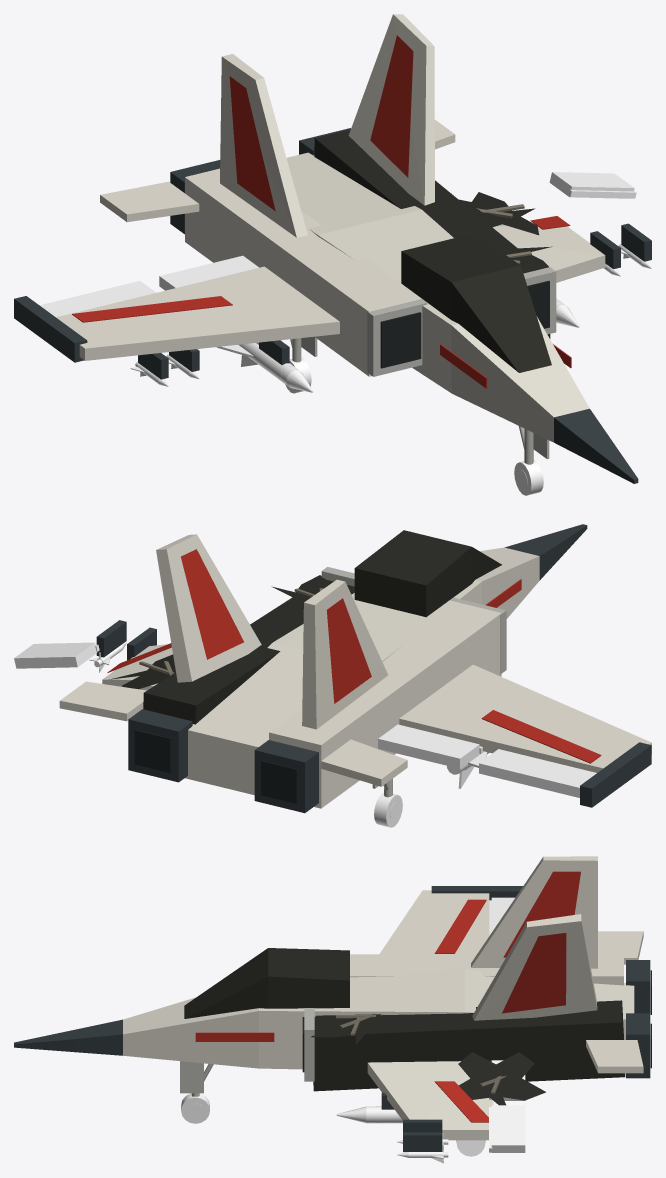
The picture shows the model from 3 angles, top to bottom: view 1: azimuth 30°, elevation 25°; view 2: azimuth 150°, elevation 25°; view 3: azimuth 270°, elevation 25°; orthographic projection. The views are drawn at different scales.
Parts seen in each view (by area): view 1: jet-a-damaged-fleet-armor, jet-a-damaged-fleet-damage-charred, jet-a-damaged-fleet-red, jet-a-damaged-fleet-machine, jet-a-damaged-fleet-rubber, jet-a-damaged-fleet-edge, elevator-left-fleet-armor, aileron-right-painted, aileron-left-painted, flap-left-painted, store-left-large-painted, gear-wheel-nose-0-0-painted (+1 smaller); view 2: jet-a-damaged-fleet-armor, jet-a-damaged-fleet-damage-charred, jet-a-damaged-fleet-machine, jet-a-damaged-fleet-red, aileron-left-painted, flap-left-painted, jet-a-damaged-fleet-rubber, elevator-left-fleet-armor, elevator-right-fleet-armor, aileron-right-painted, jet-a-damaged-fleet-edge, gear-wheel-left-0-0-painted (+1 smaller); view 3: jet-a-damaged-fleet-armor, jet-a-damaged-fleet-damage-charred, jet-a-damaged-fleet-red, jet-a-damaged-fleet-machine, aileron-right-painted, elevator-right-fleet-armor, elevator-left-fleet-armor, landing-gear-nose-fleet-edge, store-right-large-painted, jet-a-damaged-fleet-edge, gear-wheel-nose-0-0-painted, aileron-left-painted (+1 smaller).
Part boxes in pixels (left/top/right/bottom): jet-a-damaged-fleet-armor: left=56, top=14, right=606, bottom=442; jet-a-damaged-fleet-damage-charred: left=314, top=129, right=552, bottom=372; jet-a-damaged-fleet-red: left=72, top=35, right=571, bottom=388; jet-a-damaged-fleet-machine: left=14, top=128, right=651, bottom=483; jet-a-damaged-fleet-rubber: left=380, top=280, right=549, bottom=368; jet-a-damaged-fleet-edge: left=367, top=267, right=556, bottom=376; elevator-left-fleet-armor: left=100, top=181, right=199, bottom=222; aileron-right-painted: left=549, top=172, right=636, bottom=198; aileron-left-painted: left=40, top=281, right=156, bottom=317; flap-left-painted: left=159, top=255, right=258, bottom=290; store-left-large-painted: left=216, top=342, right=313, bottom=392; gear-wheel-nose-0-0-painted: left=514, top=460, right=543, bottom=495; jet-a-damaged-fleet-armor: left=102, top=534, right=651, bottom=808; jet-a-damaged-fleet-damage-charred: left=109, top=530, right=501, bottom=724; jet-a-damaged-fleet-machine: left=96, top=524, right=651, bottom=813; jet-a-damaged-fleet-red: left=107, top=549, right=601, bottom=763; aileron-left-painted: left=479, top=749, right=596, bottom=797; flap-left-painted: left=378, top=724, right=482, bottom=768; jet-a-damaged-fleet-rubber: left=134, top=729, right=297, bottom=803; elevator-left-fleet-armor: left=321, top=739, right=407, bottom=786; elevator-right-fleet-armor: left=59, top=681, right=146, bottom=721; aileron-right-painted: left=14, top=642, right=99, bottom=668; jet-a-damaged-fleet-edge: left=321, top=567, right=506, bottom=674; gear-wheel-left-0-0-painted: left=374, top=792, right=402, bottom=827; jet-a-damaged-fleet-armor: left=123, top=856, right=634, bottom=1140; jet-a-damaged-fleet-damage-charred: left=184, top=948, right=625, bottom=1105; jet-a-damaged-fleet-red: left=195, top=871, right=580, bottom=1122; jet-a-damaged-fleet-machine: left=14, top=886, right=650, bottom=1151; aileron-right-painted: left=489, top=1105, right=525, bottom=1152; elevator-right-fleet-armor: left=586, top=1040, right=643, bottom=1073; elevator-left-fleet-armor: left=598, top=931, right=643, bottom=964; landing-gear-nose-fleet-edge: left=180, top=1061, right=213, bottom=1096; store-right-large-painted: left=336, top=1106, right=402, bottom=1123; jet-a-damaged-fleet-edge: left=304, top=1008, right=314, bottom=1081; gear-wheel-nose-0-0-painted: left=181, top=1093, right=209, bottom=1123; aileron-left-painted: left=489, top=897, right=514, bottom=935.
Size of the model in its own units: 56.65 by 26.34 by 62.11.
